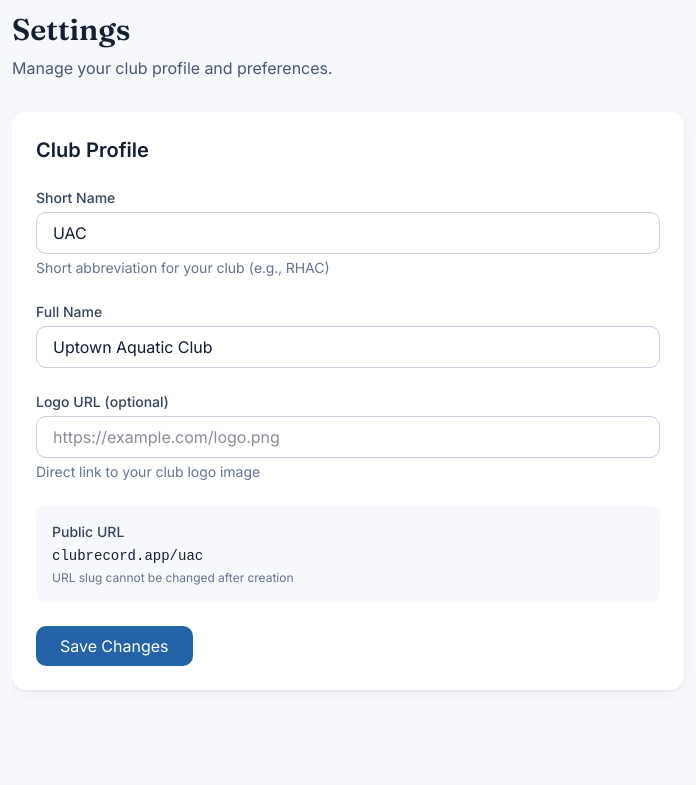
SettingsPage › shows a generic message and re-enables Save when the update throws
Click the button "Save Changes": (114, 646) [36,626,192,666]
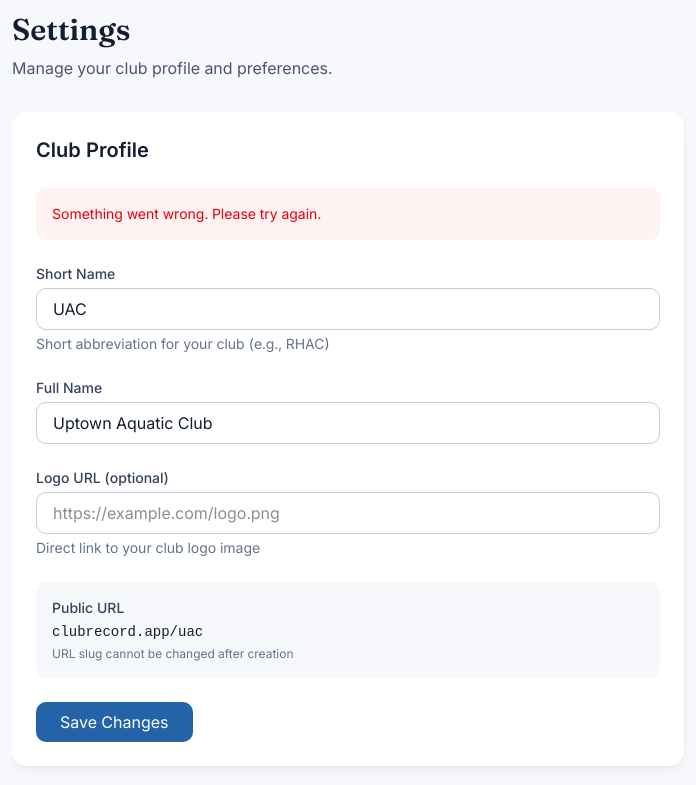
Expected: the button "Save Changes" is enabled, [36,702,192,742]
Now the text "Something went wrong. Please try again." is shown, box [36,188,660,240]
